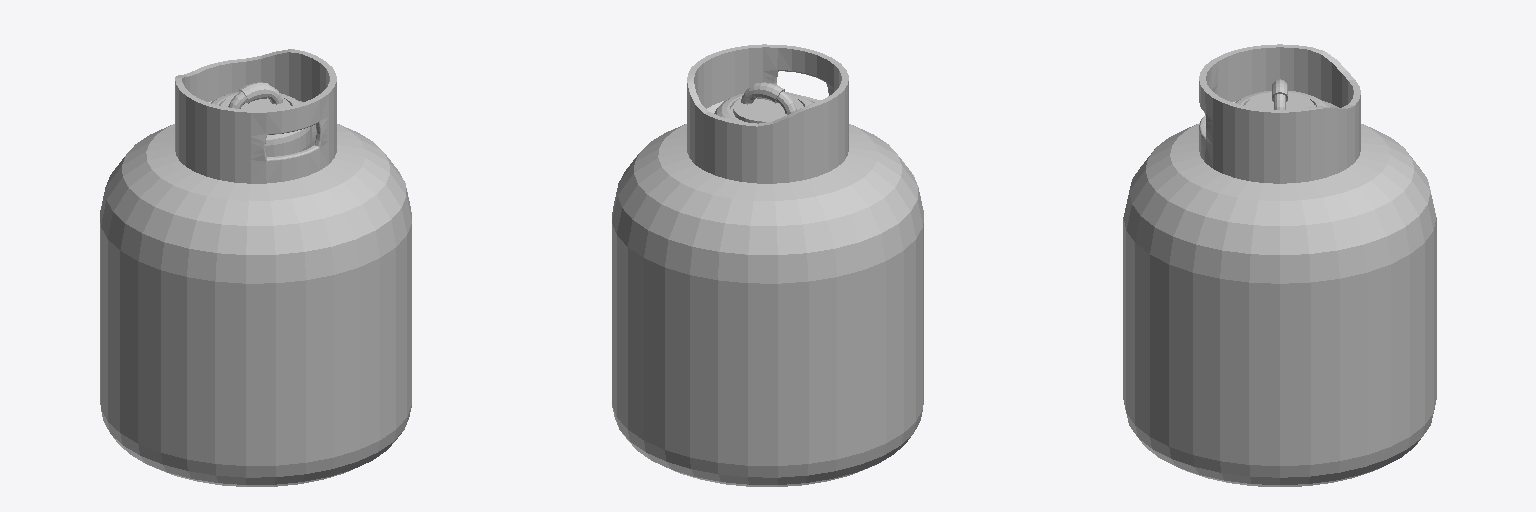
Rendered from gas_tank.obj.
3 views of the same model, side by side, from view 1: azimuth 30°, elevation 25°; view 2: azimuth 150°, elevation 25°; view 3: azimuth 270°, elevation 25° (orthographic).
Visible parts, largest first — view 1: Gas_Tank_Cylinder; view 2: Gas_Tank_Cylinder; view 3: Gas_Tank_Cylinder.
Boxes of the visible parts, <box> form: Gas_Tank_Cylinder: <box>100,49,411,486</box>; Gas_Tank_Cylinder: <box>612,44,923,486</box>; Gas_Tank_Cylinder: <box>1123,44,1436,486</box>.
Size of the model in its own units: 1 by 1.25 by 1.